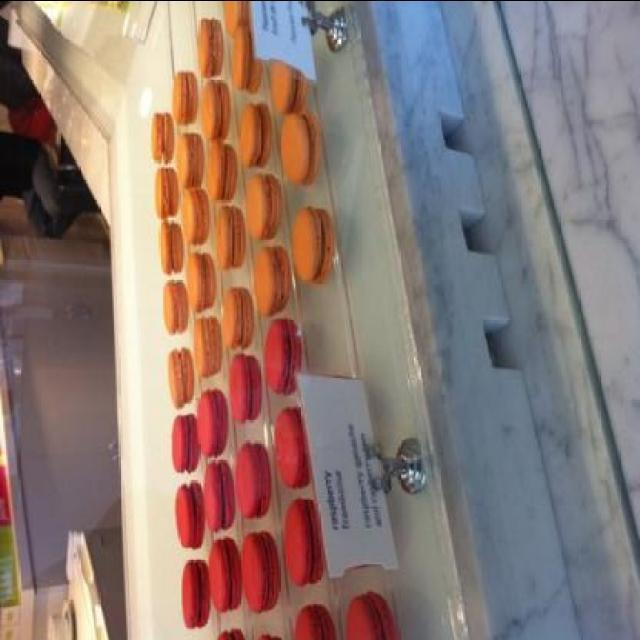Macaron: (148, 1, 388, 637)
